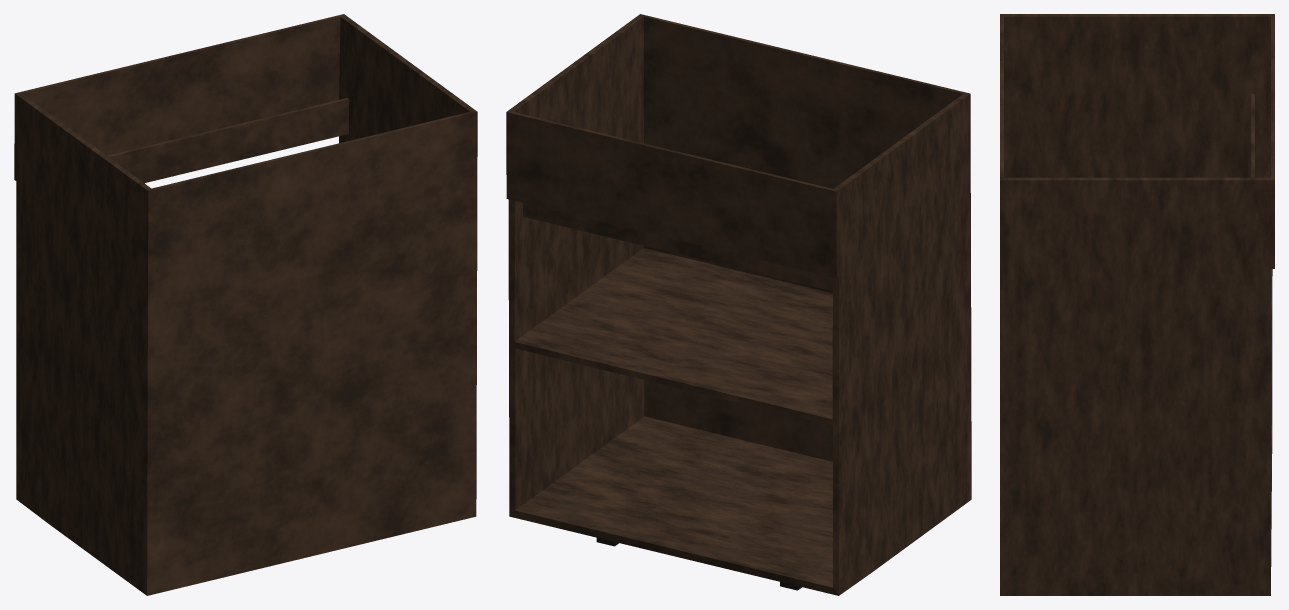
The model's file is bedside_table.fbx.
3 views of the same model, side by side, from view 1: azimuth 30°, elevation 25°; view 2: azimuth 150°, elevation 25°; view 3: azimuth 270°, elevation 25° (orthographic). The views are drawn at different scales.
Visible parts, largest first — view 1: bedside_table_Baked; view 2: bedside_table_Baked; view 3: bedside_table_Baked.
Part boxes in pixels (box(x1,y1,x2,y2)): bedside_table_Baked: box(14, 14, 477, 595); bedside_table_Baked: box(506, 14, 971, 595); bedside_table_Baked: box(1000, 14, 1274, 595).
Size of the model in its own units: 65.23 by 81.44 by 45.68.
Materials: 1 (1 with a texture image).
